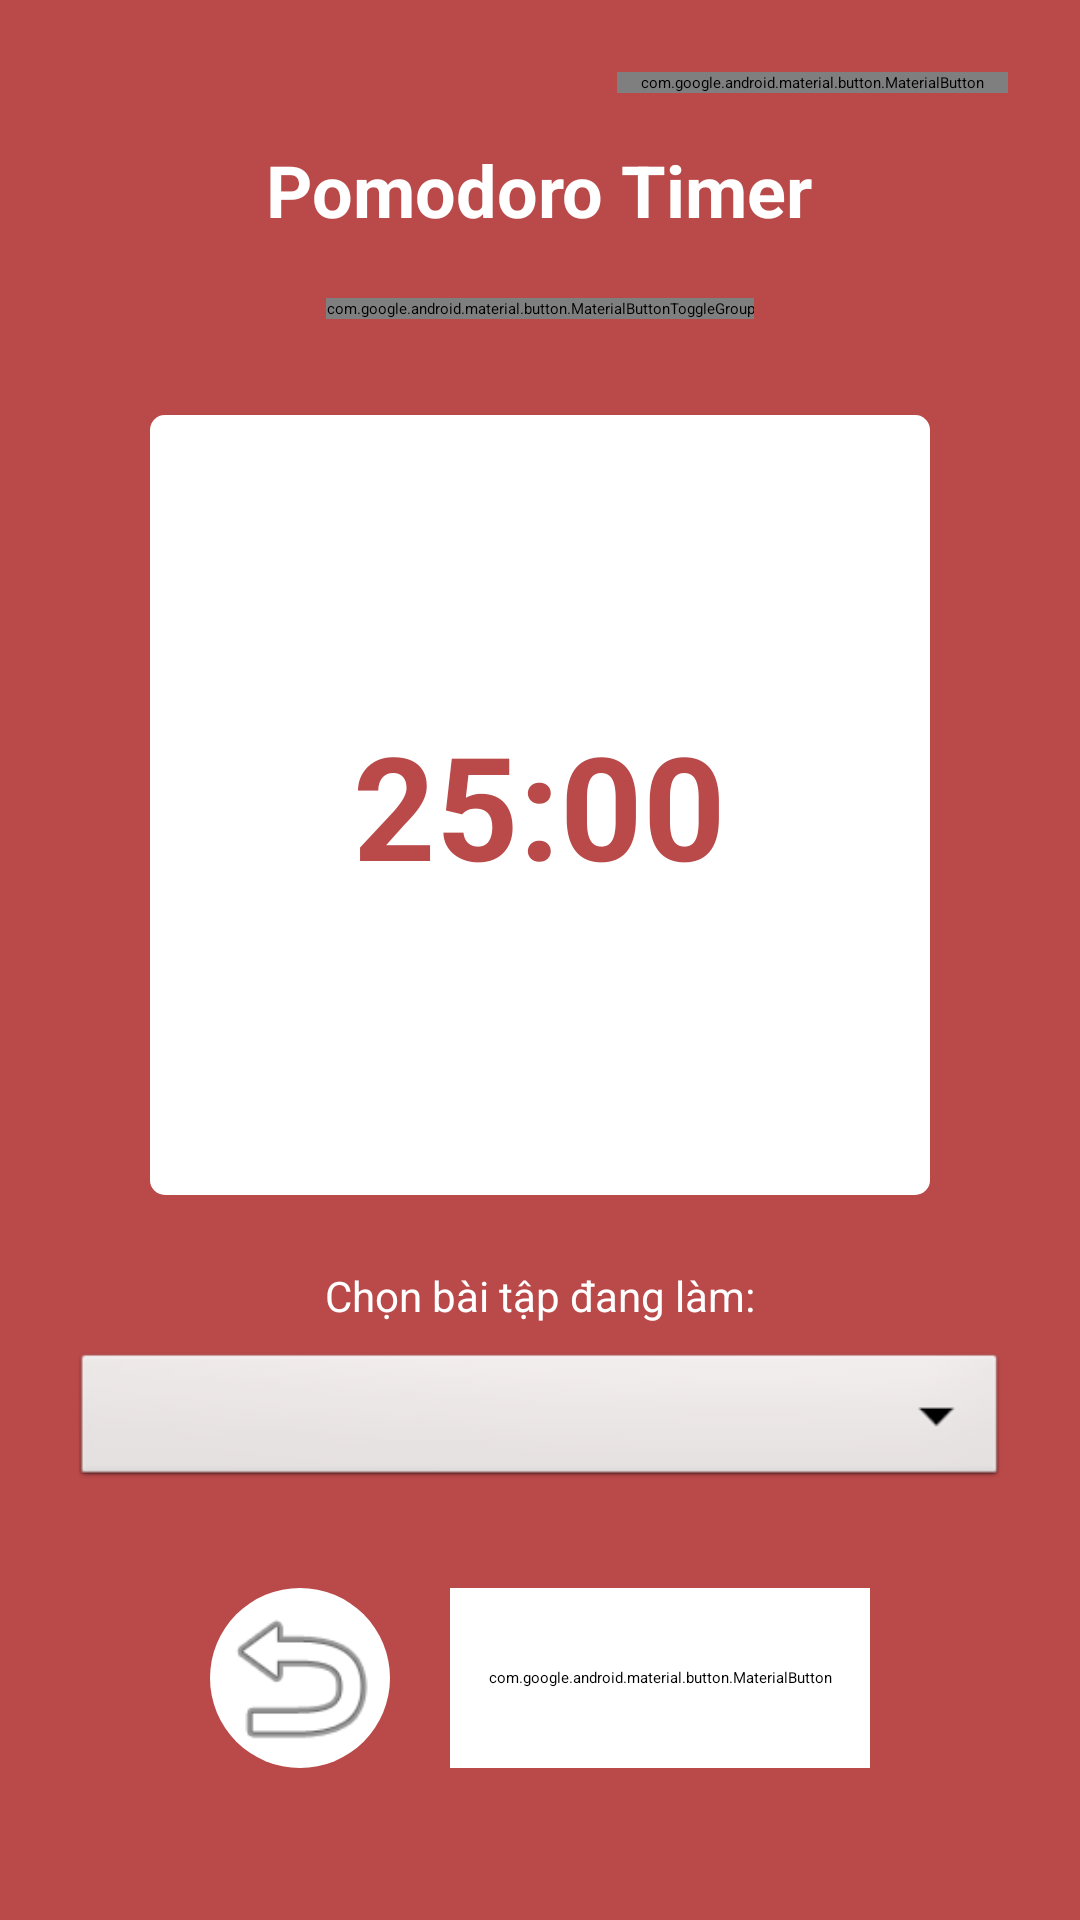

Where to tap for icons on this 1080w x 1920h app screen, as point (x, y):
Reset: point (300, 1678)
